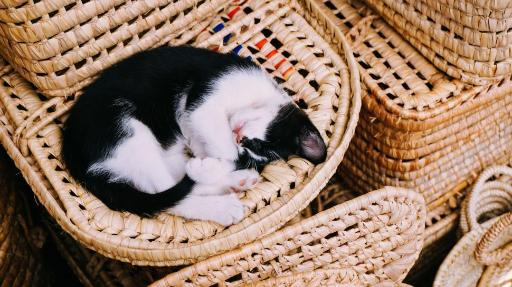cat_sleeping: (61, 46, 326, 226)
